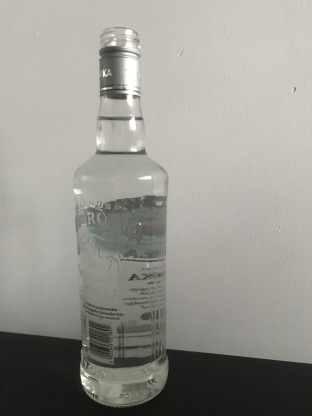nakretka: (96, 24, 143, 100)
